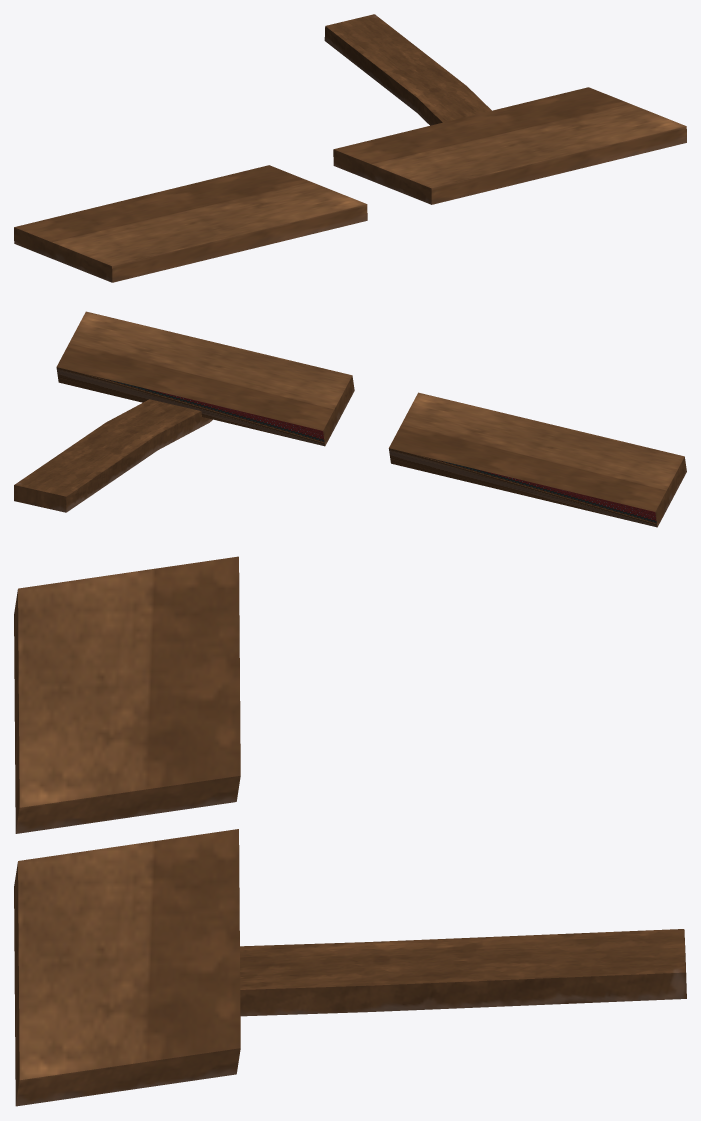
File: Madeira2.fbx
3 renders of one model, top to bottom at view 1: azimuth 30°, elevation 25°; view 2: azimuth 150°, elevation 25°; view 3: azimuth 270°, elevation 25°, orthographic. The views are drawn at different scales.
Parts seen in each view (by area): view 1: Cube.005, Cube.004; view 2: Cube.005, Cube.004; view 3: Cube.005, Cube.004.
Boxes of the visible parts, x1,y1,x2,y2 form: Cube.005: (324, 14, 686, 204); Cube.004: (14, 165, 367, 282); Cube.005: (14, 311, 354, 512); Cube.004: (388, 392, 686, 527); Cube.005: (14, 829, 686, 1106); Cube.004: (14, 556, 240, 833).
Size of the model in its own units: 524 by 23.59 by 286.
